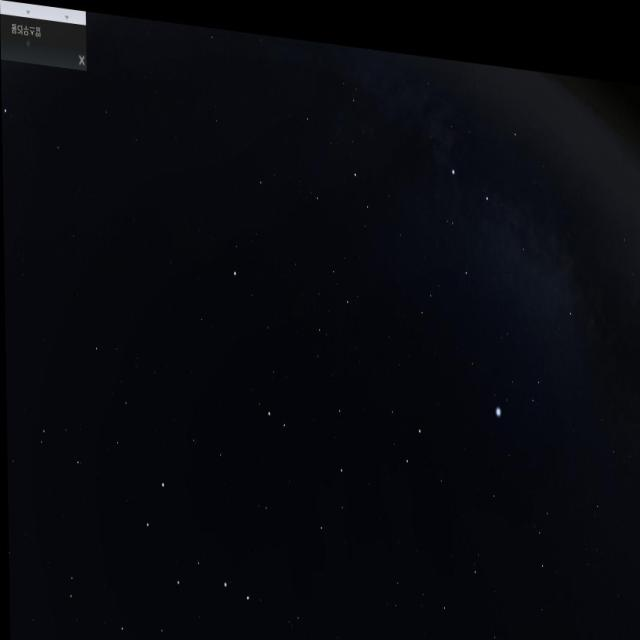cygnus: (431, 93, 586, 305)
lyra: (491, 334, 546, 424)
ursa_major: (148, 474, 275, 640)
